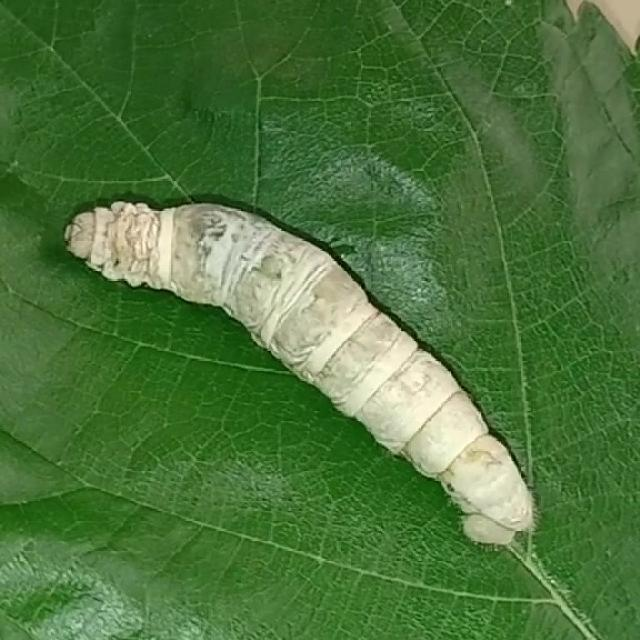Grasserie: (51, 185, 604, 565)
